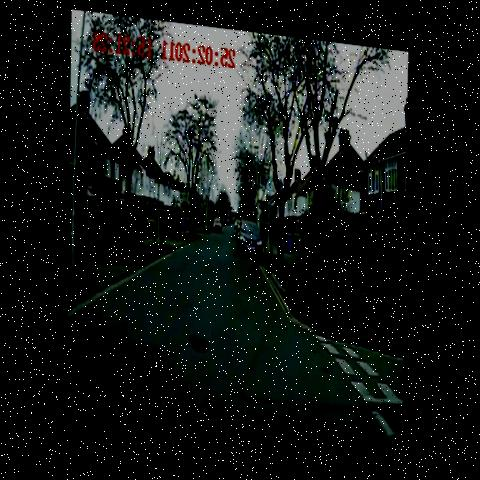pothole: (182, 321, 221, 363)
